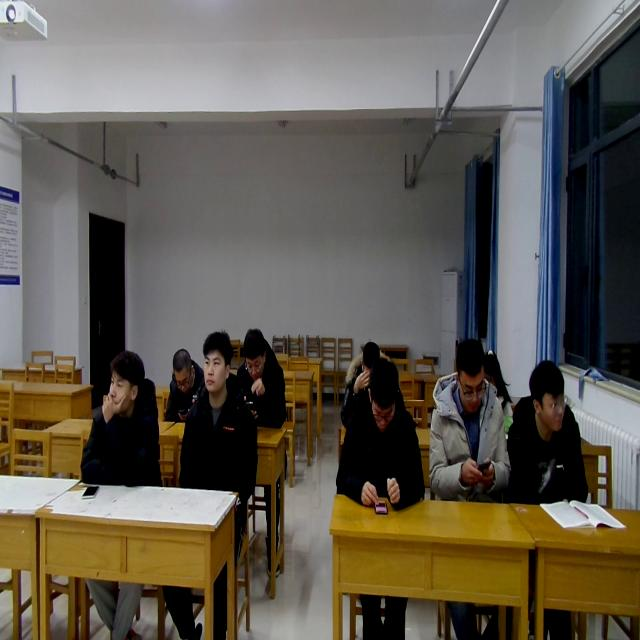down: (450, 336, 488, 419), (367, 356, 402, 436), (239, 322, 267, 384), (168, 342, 194, 393), (358, 336, 380, 376)
lookup: (104, 346, 144, 410), (198, 324, 232, 398)
sit: (428, 337, 512, 503), (178, 331, 260, 495), (336, 360, 426, 504), (238, 326, 288, 576), (78, 352, 164, 490), (508, 358, 588, 504), (339, 340, 382, 426), (163, 345, 206, 425)
